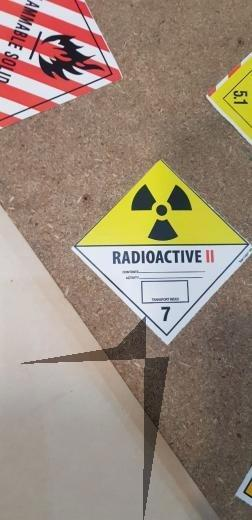flammable-solid: (1, 1, 126, 130)
radioactive: (71, 161, 252, 346)
